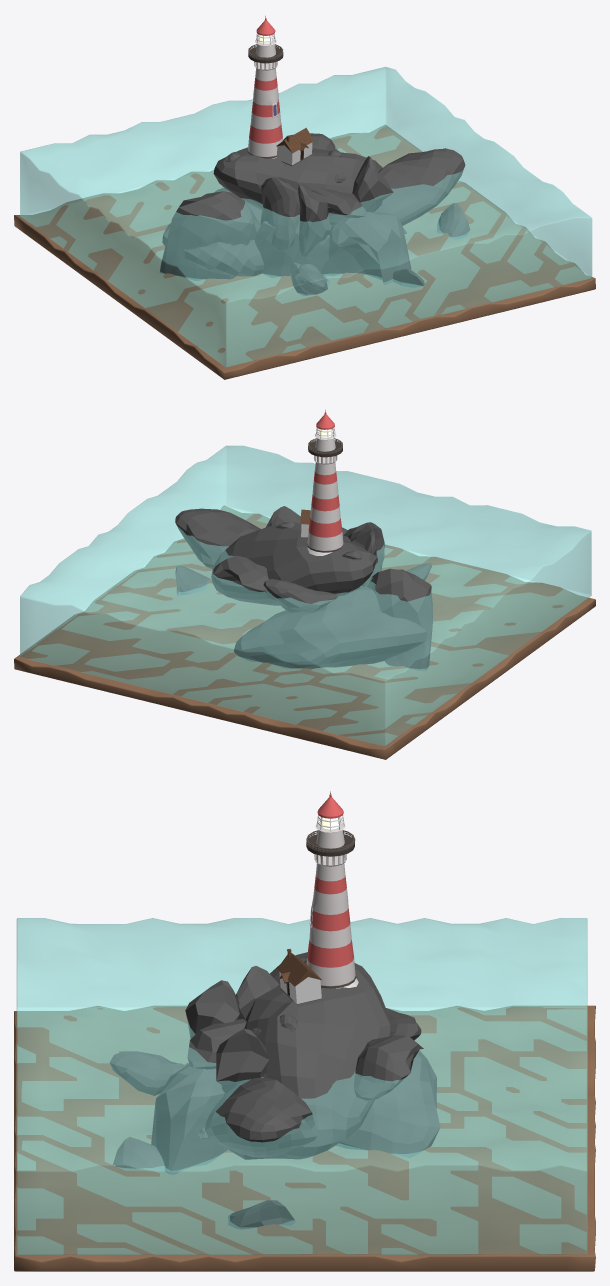
File: low_poly_lighthouse_scene.glb
3 renders of one model, top to bottom at view 1: azimuth 30°, elevation 25°; view 2: azimuth 150°, elevation 25°; view 3: azimuth 270°, elevation 25°, orthographic. The views are drawn at different scales.
Visible parts, largest first — view 1: Sea, Sand, Cube.003, Cube.001, Cube.020, Cube.002, Circle, Cube.021, Cube.012, Cube.019, Cube.013, Cube.014 (+4 smaller); view 2: Sea, Sand, Cube.021, Cube.001, Circle, Cube.003, Cube.002, Cube.006, Cube.005, Cube.010, Cube.013, Cube.012; view 3: Sea, Sand, Cube.001, Circle, Cube.002, Cube.020, Cube.021, Cube.005, Cube.014, Cube.008, Cube.013, Cube (+5 smaller).
Boxes of the visible parts, <box> form: Sea: <box>20,67,592,367</box>; Sand: <box>14,124,595,379</box>; Cube.003: <box>160,191,260,280</box>; Cube.001: <box>213,147,382,224</box>; Cube.020: <box>322,211,411,284</box>; Cube.002: <box>374,148,465,225</box>; Circle: <box>247,16,283,158</box>; Cube.021: <box>162,188,264,276</box>; Cube.012: <box>260,177,300,251</box>; Cube.019: <box>255,218,331,277</box>; Cube.013: <box>298,183,330,256</box>; Cube.014: <box>352,156,393,211</box>; Sea: <box>20,445,591,746</box>; Sand: <box>14,505,595,759</box>; Cube.021: <box>234,586,426,668</box>; Cube.001: <box>211,522,377,605</box>; Circle: <box>307,410,343,555</box>; Cube.003: <box>367,568,432,670</box>; Cube.002: <box>175,508,260,568</box>; Cube.006: <box>263,579,337,612</box>; Cube.005: <box>212,555,268,592</box>; Cube.010: <box>175,565,211,595</box>; Cube.013: <box>344,522,384,570</box>; Cube.012: <box>352,530,380,586</box>; Sea: <box>16,918,587,1254</box>; Sand: <box>14,1005,595,1271</box>; Cube.001: <box>224,960,391,1159</box>; Circle: <box>306,791,358,988</box>; Cube.002: <box>205,1078,317,1157</box>; Cube.020: <box>151,1064,228,1174</box>; Cube.021: <box>336,1050,440,1157</box>; Cube.005: <box>354,1035,423,1100</box>; Cube.014: <box>216,1029,269,1094</box>; Cube.008: <box>109,1051,185,1095</box>; Cube.013: <box>185,980,239,1039</box>; Cube: <box>277,949,321,1004</box>.
Bounding box in the file's own units: 14.69 × 10.48 × 14.41.
